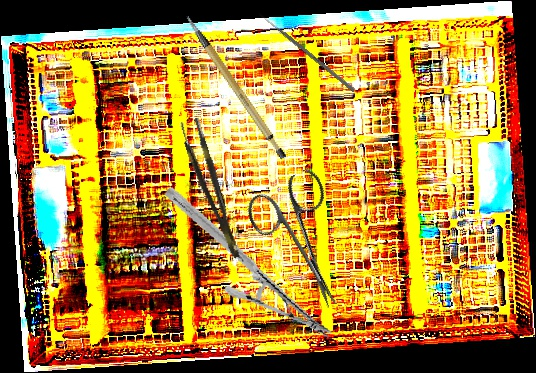Iris Scissors: (240, 165, 371, 323)
Needle Holder: (140, 185, 357, 341)
Pusher: (257, 11, 356, 93)
Scalpel Handle: (184, 1, 290, 171)
Tissue Forceps: (178, 116, 242, 263)
